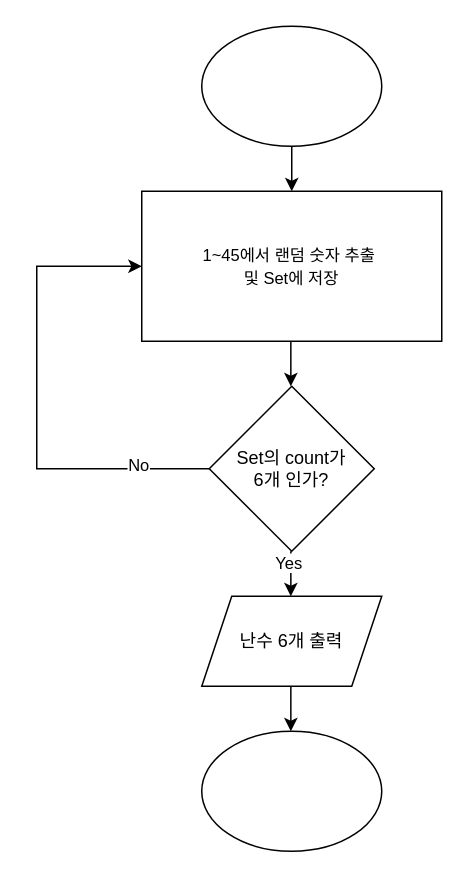
This 468x878 diagram has some shape labels left out. Here are the shapes that lost their labels. From the top down, the centre of each, then its label:
At point 291,85: "시작".
At point 291,790: "종료".
